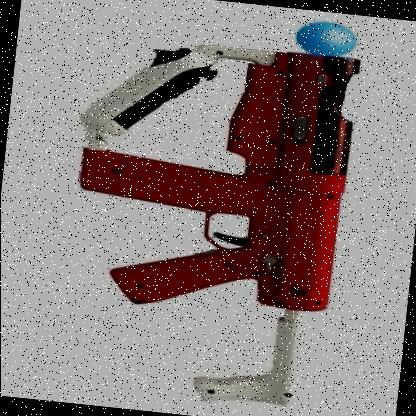rifle: (72, 2, 382, 412)
